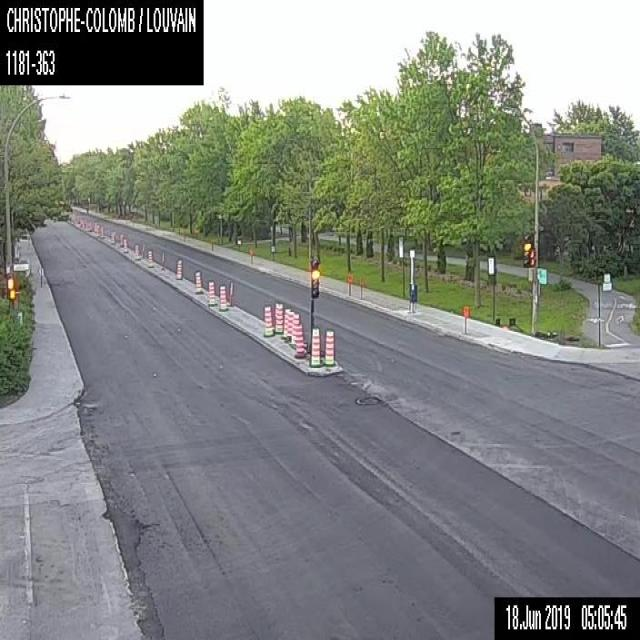construction: (309, 326, 323, 366), (324, 328, 336, 367), (294, 322, 306, 356), (263, 303, 274, 337), (283, 309, 294, 342), (290, 313, 300, 347), (280, 307, 290, 338), (274, 300, 282, 334), (218, 283, 228, 310), (206, 279, 216, 305), (193, 268, 203, 292), (462, 305, 469, 335), (175, 258, 183, 280), (358, 274, 364, 298), (146, 249, 154, 267), (347, 273, 352, 294), (122, 236, 128, 252), (134, 243, 138, 260), (249, 247, 253, 263), (119, 232, 123, 246), (111, 231, 115, 244), (100, 224, 104, 236), (96, 223, 99, 234)
